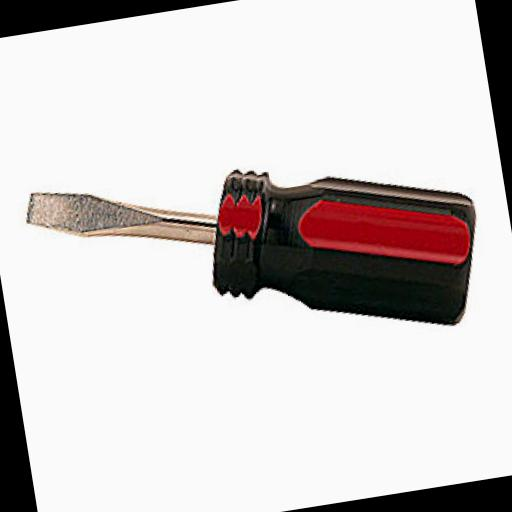screwdriver: (21, 124, 492, 391)
